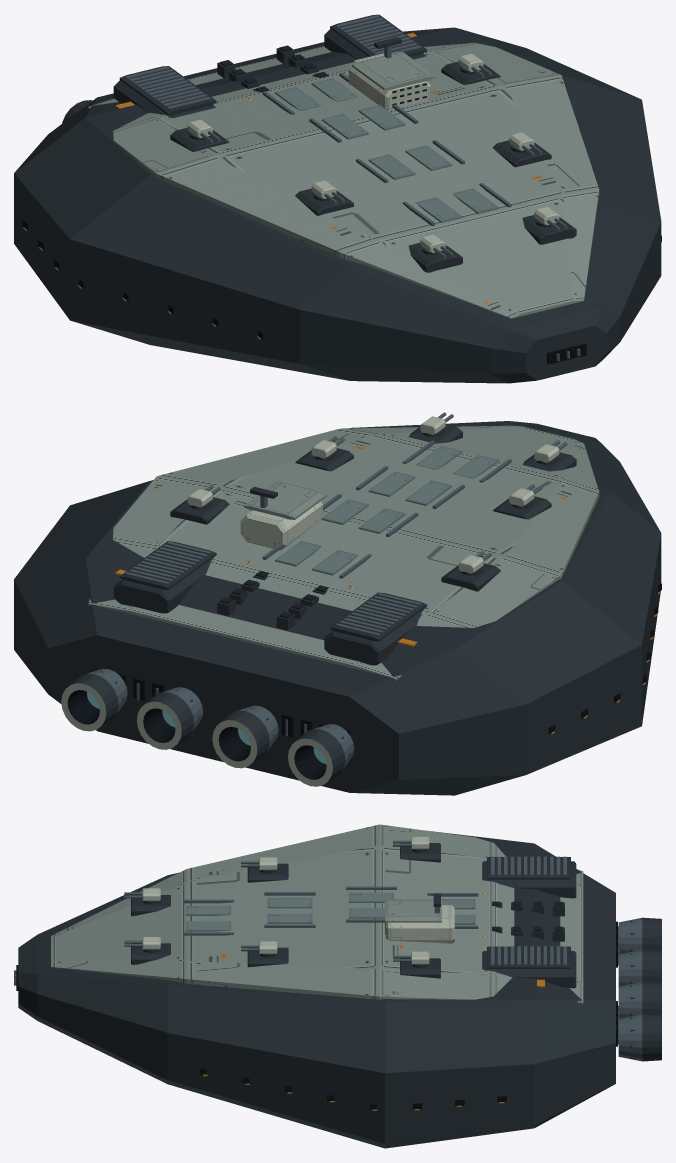
File: battleship-high.glb
The picture shows the model from 3 angles, top to bottom: view 1: azimuth 30°, elevation 25°; view 2: azimuth 150°, elevation 25°; view 3: azimuth 270°, elevation 25°; orthographic projection. The views are drawn at different scales.
Parts seen in each view (by area): view 1: AV_battleship-high; view 2: AV_battleship-high; view 3: AV_battleship-high.
Part boxes in pixels (x1,y1,x2,y2): AV_battleship-high: (14,14,661,383); AV_battleship-high: (14,412,661,795); AV_battleship-high: (14,824,661,1148).
Size of the model in its own units: 1.66 by 0.6324 by 1.87.
1 material, 1 textured.
